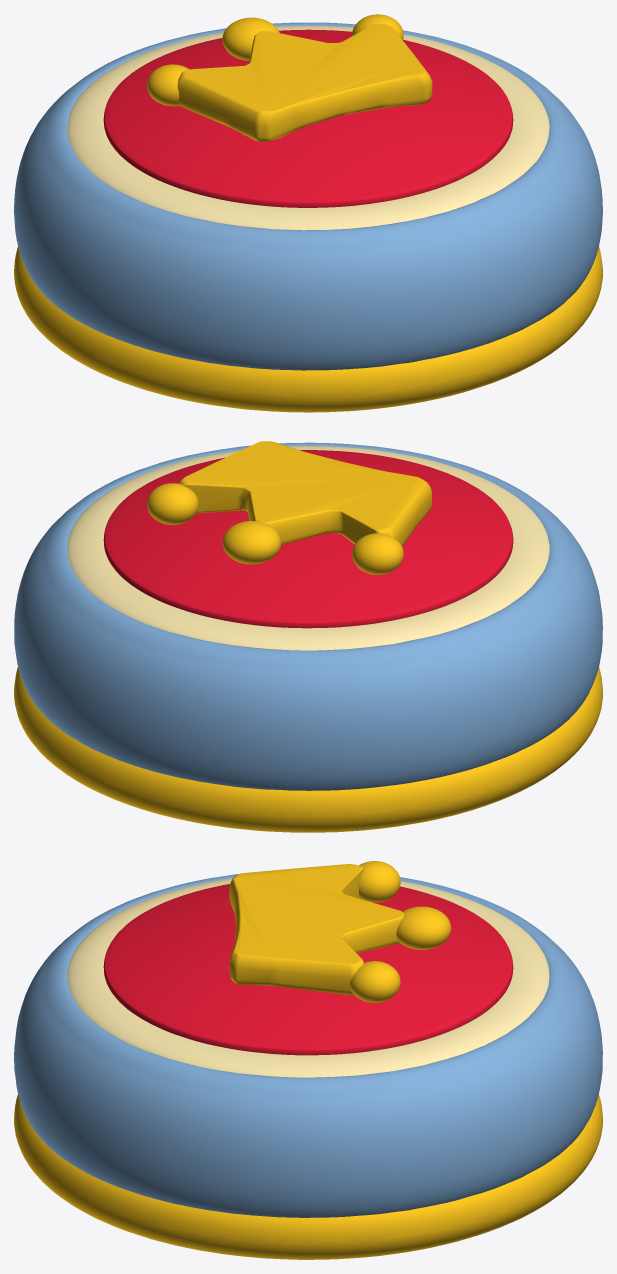
The model's file is discV2.glb.
3 renders of one model, top to bottom at view 1: azimuth 30°, elevation 25°; view 2: azimuth 150°, elevation 25°; view 3: azimuth 270°, elevation 25°, orthographic.
Parts seen in each view (by area): view 1: Rounded_Body, Red_Domed_Enamel, Gold_Base, Curved_Inlay, Crown_Emblem, Crown_Pearl_2, Crown_Pearl_1, Crown_Pearl_3; view 2: Rounded_Body, Red_Domed_Enamel, Gold_Base, Curved_Inlay, Crown_Emblem, Crown_Pearl_2, Crown_Pearl_1, Crown_Pearl_3; view 3: Rounded_Body, Red_Domed_Enamel, Gold_Base, Curved_Inlay, Crown_Emblem, Crown_Pearl_2, Crown_Pearl_3, Crown_Pearl_1.
Part boxes in pixels (x1,y1,x2,y2): Rounded_Body: (14, 22, 602, 370); Red_Domed_Enamel: (103, 29, 513, 207); Gold_Base: (14, 246, 602, 412); Curved_Inlay: (67, 25, 549, 230); Crown_Emblem: (177, 24, 432, 141); Crown_Pearl_2: (222, 17, 279, 60); Crown_Pearl_1: (147, 64, 188, 106); Crown_Pearl_3: (352, 14, 403, 39); Rounded_Body: (14, 442, 602, 790); Red_Domed_Enamel: (103, 450, 513, 628); Gold_Base: (14, 667, 602, 832); Curved_Inlay: (67, 446, 549, 650); Crown_Emblem: (179, 441, 431, 546); Crown_Pearl_2: (222, 521, 281, 564); Crown_Pearl_1: (352, 533, 403, 574); Crown_Pearl_3: (147, 483, 198, 524); Rounded_Body: (14, 874, 602, 1217); Red_Domed_Enamel: (103, 884, 513, 1055); Gold_Base: (14, 1094, 602, 1259); Curved_Inlay: (67, 878, 549, 1077); Crown_Emblem: (229, 864, 404, 995); Crown_Pearl_2: (396, 906, 451, 949); Crown_Pearl_3: (350, 961, 400, 1002); Crown_Pearl_1: (359, 861, 400, 902).
Size of the model in its own units: 2 by 0.8938 by 2.
